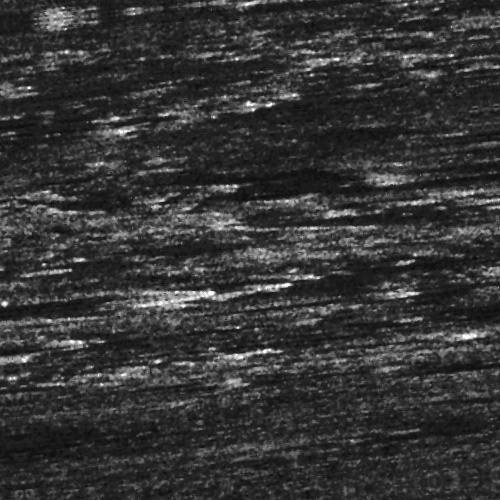object: (51, 106, 186, 119), (0, 45, 71, 64), (137, 174, 252, 185), (408, 6, 491, 15), (23, 316, 106, 325), (33, 0, 106, 5), (358, 302, 421, 307), (11, 245, 74, 250), (429, 352, 492, 357), (0, 325, 26, 334), (190, 377, 231, 380), (478, 417, 500, 422), (0, 271, 15, 276)
shadow: (367, 187, 500, 210), (144, 6, 450, 15), (35, 174, 194, 185), (0, 106, 118, 119), (433, 381, 500, 394), (244, 302, 390, 307), (317, 352, 461, 357), (0, 316, 64, 325), (0, 0, 69, 5), (444, 417, 500, 422), (134, 377, 210, 380), (0, 245, 43, 250), (470, 157, 500, 164)
